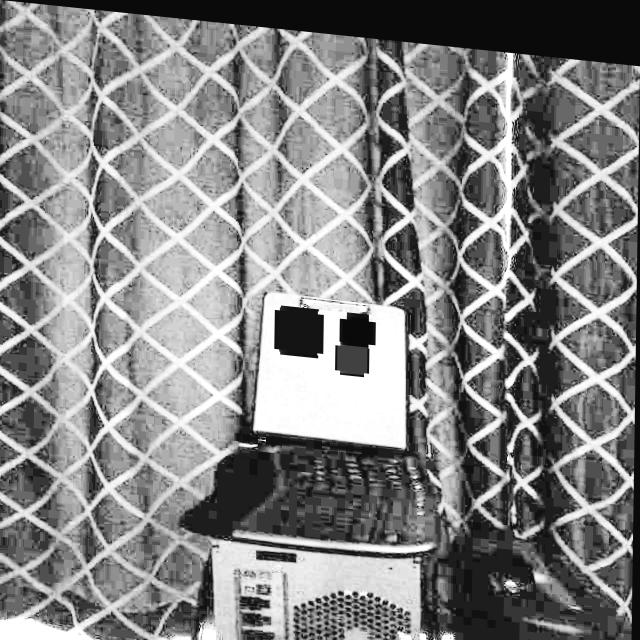qr_code: (278, 301, 322, 349), (343, 308, 374, 340), (338, 336, 368, 367)
